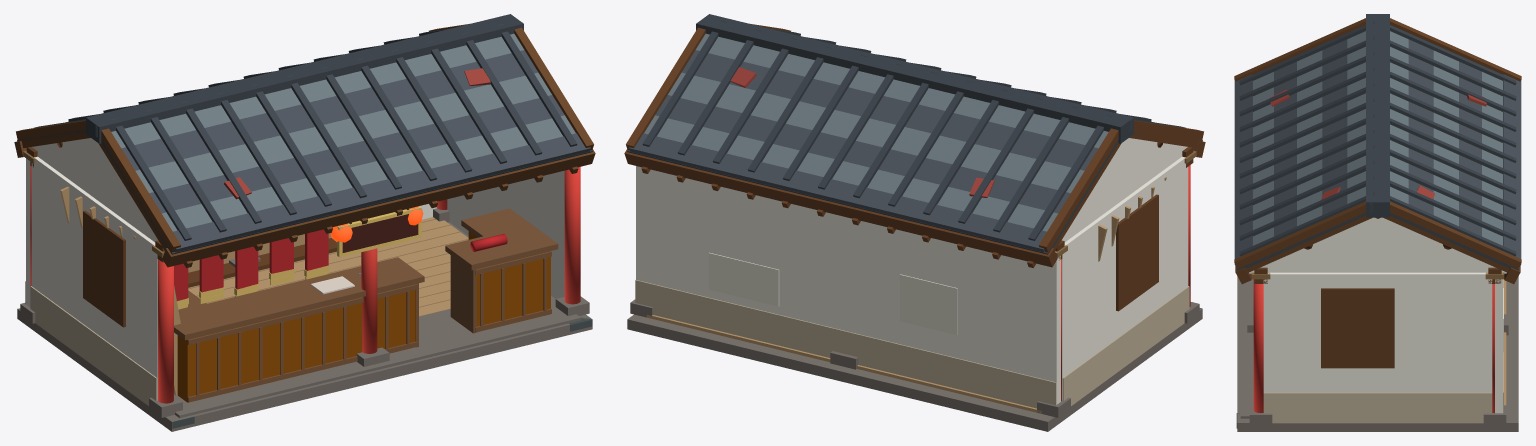
The model's file is lib_lib_shop_counter.hd.glb.
3 views of the same model, side by side, from view 1: azimuth 30°, elevation 25°; view 2: azimuth 150°, elevation 25°; view 3: azimuth 270°, elevation 25° (orthographic). The views are drawn at different scales.
Parts seen in each view (by area): view 1: tangy_mai, tangy_noi_that; view 2: tangy_mai; view 3: tangy_mai.
Part boxes in pixels (box(x1,y1,x2,y2)): tangy_mai: box(14, 14, 595, 431); tangy_noi_that: box(174, 206, 507, 301); tangy_mai: box(624, 14, 1205, 431); tangy_mai: box(1234, 14, 1521, 431).
Bounding box in the file's own units: 6.78 × 3.8 × 4.29.
4 materials, 4 textured.
